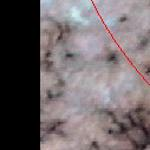alive: (44, 3, 149, 145)
